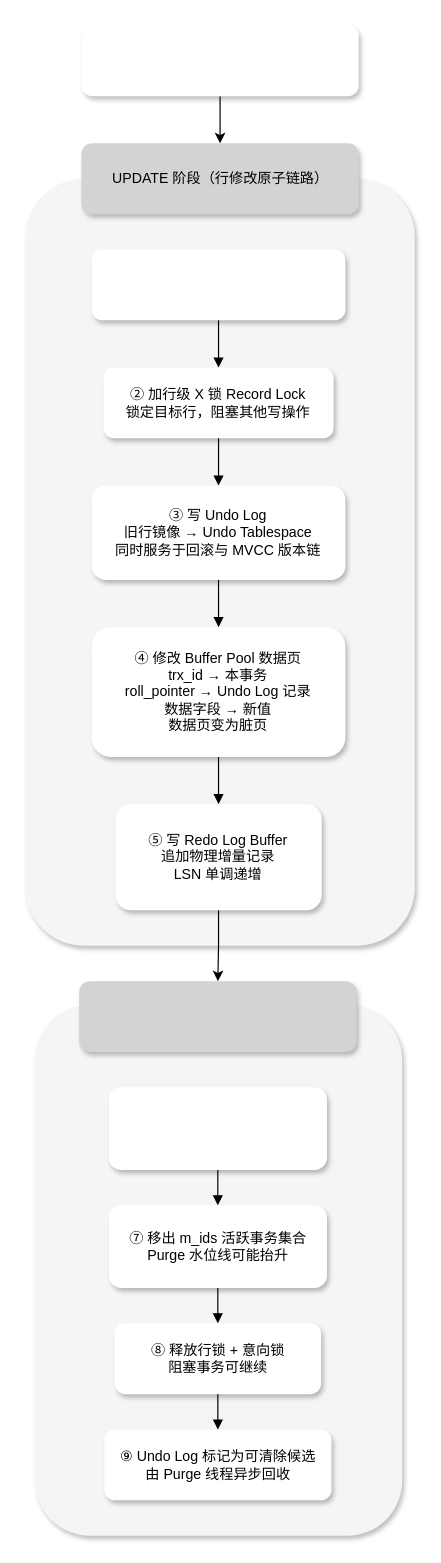
This 441x1563 diagram has some shape labels left out. Here are the shapes that lost their labels. From the top down, the centre of each, then its label:
the point at 220,62: BEGIN 分配 trx_id · 加入全局活跃事务集合 m_ids
the point at 219,286: ① 加表级 IX 意向锁 声明意图，供表锁快速冲突检测
the point at 218,1018: COMMIT 阶段
the point at 218,1130: ⑥ 刷 Redo Log Buffer → 磁盘 WAL 完成，持久性 D 保障
